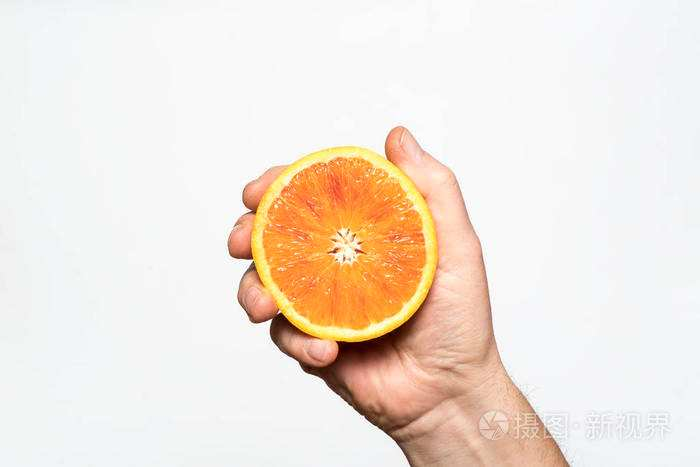no-phone: (226, 122, 514, 452)
